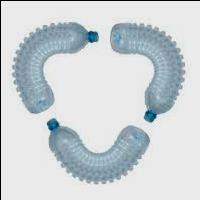Plastic: (8, 15, 100, 118), (107, 16, 188, 123), (44, 115, 151, 188)
